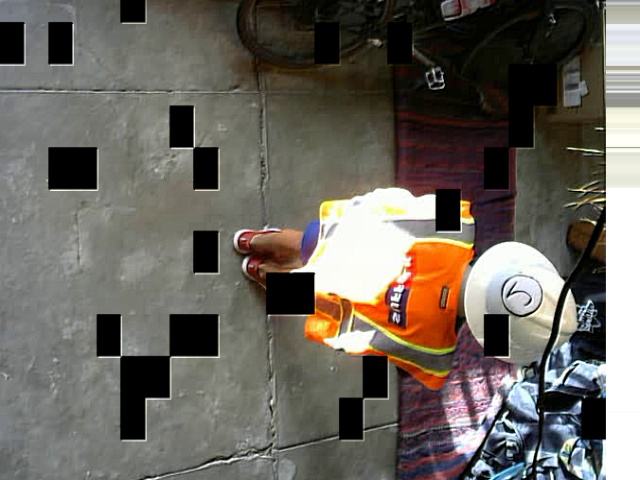two: (500, 274, 543, 316)
